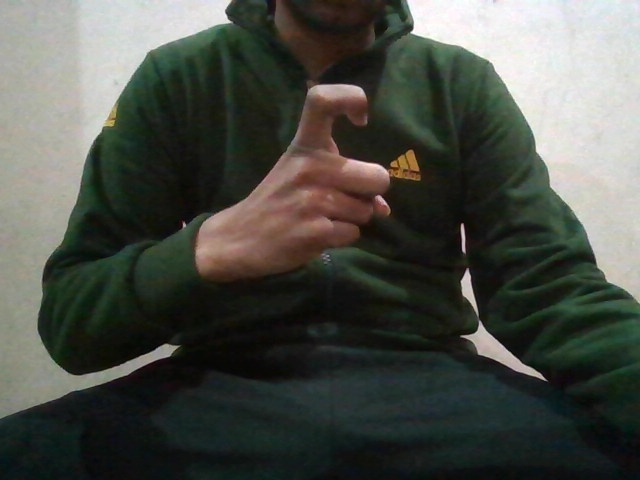P: (288, 78, 389, 254)
